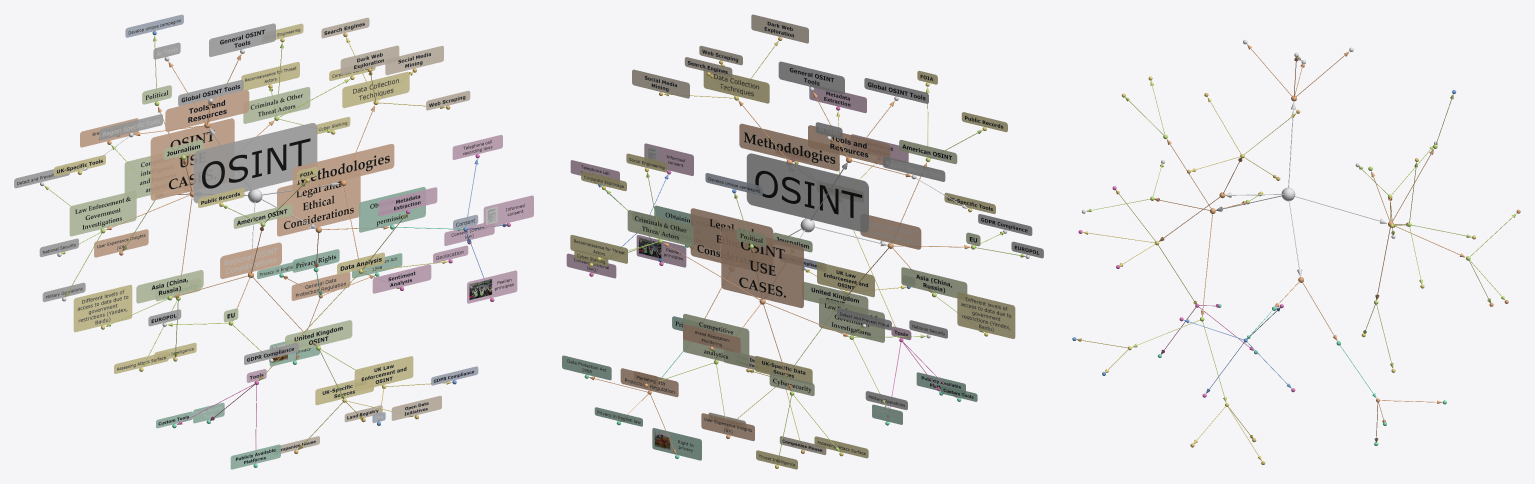
File: knowledge_base.glb
3 views of the same model, side by side, from view 1: azimuth 30°, elevation 25°; view 2: azimuth 150°, elevation 25°; view 3: azimuth 270°, elevation 25° (orthographic). The views are drawn at different scales.
Visible parts, largest first — view 1: Object_7, Object_5, Object_13, Object_19, Object_25, Object_49, Object_325, Object_11, Object_37, Object_91, Object_67, Object_31 (+30 smaller); view 2: Object_7, Object_13, Object_5, Object_25, Object_19, Object_325, Object_11, Object_55, Object_37, Object_49, Object_67, Object_91 (+30 smaller); view 3: Object_5, Object_11.
Boxes of the visible parts, x1,y1,x2,y2 form: Object_7: [193, 123, 317, 203]; Object_5: [40, 31, 506, 467]; Object_13: [150, 118, 234, 200]; Object_19: [277, 176, 360, 236]; Object_25: [292, 144, 394, 191]; Object_49: [69, 190, 136, 236]; Object_325: [73, 284, 132, 332]; Object_11: [105, 54, 510, 449]; Object_37: [165, 90, 249, 131]; Object_91: [342, 72, 409, 108]; Object_67: [243, 87, 310, 123]; Object_31: [220, 242, 281, 278]; Object_7: [746, 153, 868, 232]; Object_13: [721, 227, 803, 308]; Object_5: [584, 37, 1029, 468]; Object_25: [739, 123, 839, 171]; Object_19: [690, 208, 773, 262]; Object_325: [957, 292, 1015, 338]; Object_11: [589, 92, 970, 454]; Object_55: [683, 314, 749, 367]; Object_37: [808, 125, 890, 165]; Object_49: [819, 297, 884, 342]; Object_67: [627, 210, 693, 246]; Object_91: [703, 71, 769, 103]; Object_5: [1072, 39, 1516, 464]; Object_11: [1078, 44, 1520, 442].
Bounding box in the file's own units: 421 × 379 × 392.
72 materials, 72 textured.
